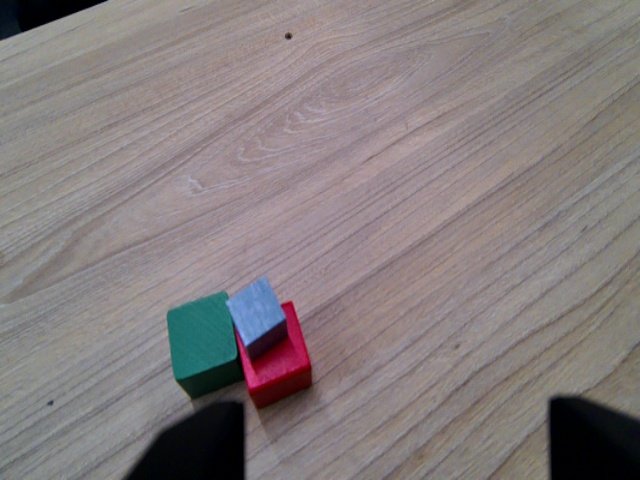stone: (219, 272, 292, 364)
